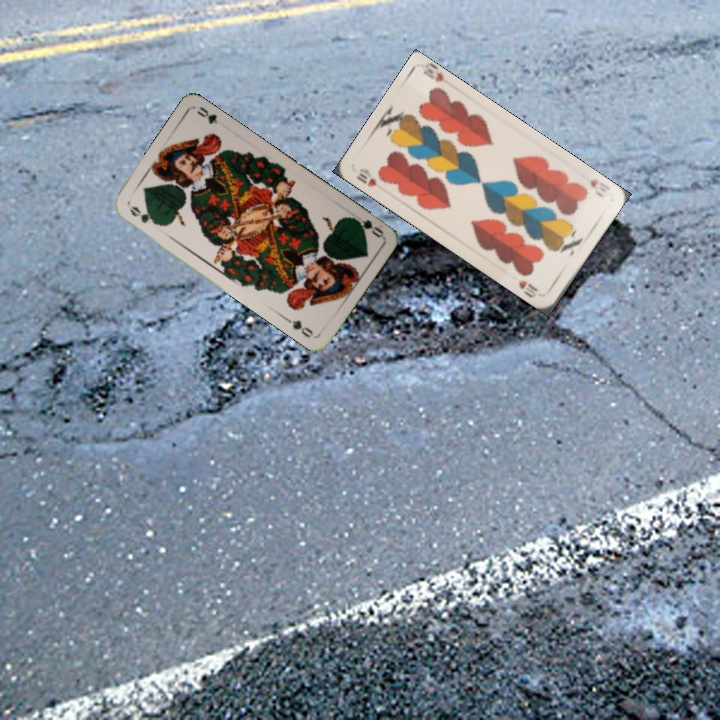GO: (347, 213, 386, 240), (125, 202, 162, 228)
H10: (352, 164, 380, 190), (586, 174, 612, 200)
